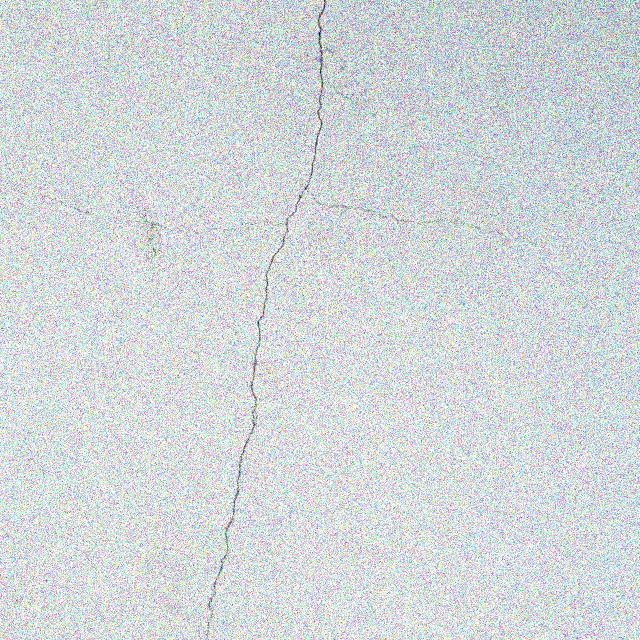SurfaceCrack: (171, 0, 374, 640)
